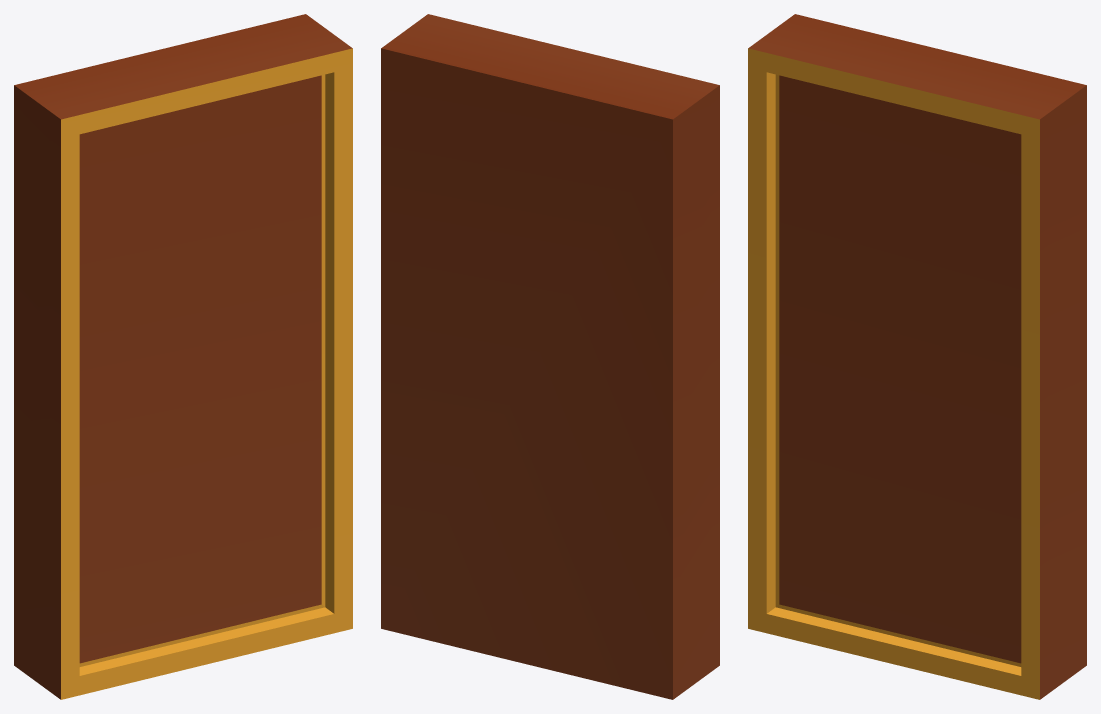
File: WallBig.fbx
3 views of the same model, side by side, from view 1: azimuth 30°, elevation 25°; view 2: azimuth 150°, elevation 25°; view 3: azimuth 330°, elevation 25° (orthographic).
Parts seen in each view (by area): view 1: WallBig_LOD0; view 2: WallBig_LOD0; view 3: WallBig_LOD0.
Boxes of the visible parts, x1,y1,x2,y2 form: WallBig_LOD0: (14, 14, 352, 699); WallBig_LOD0: (381, 14, 719, 699); WallBig_LOD0: (748, 14, 1086, 699).
Bounding box in the file's own units: 463 × 881 × 129.
